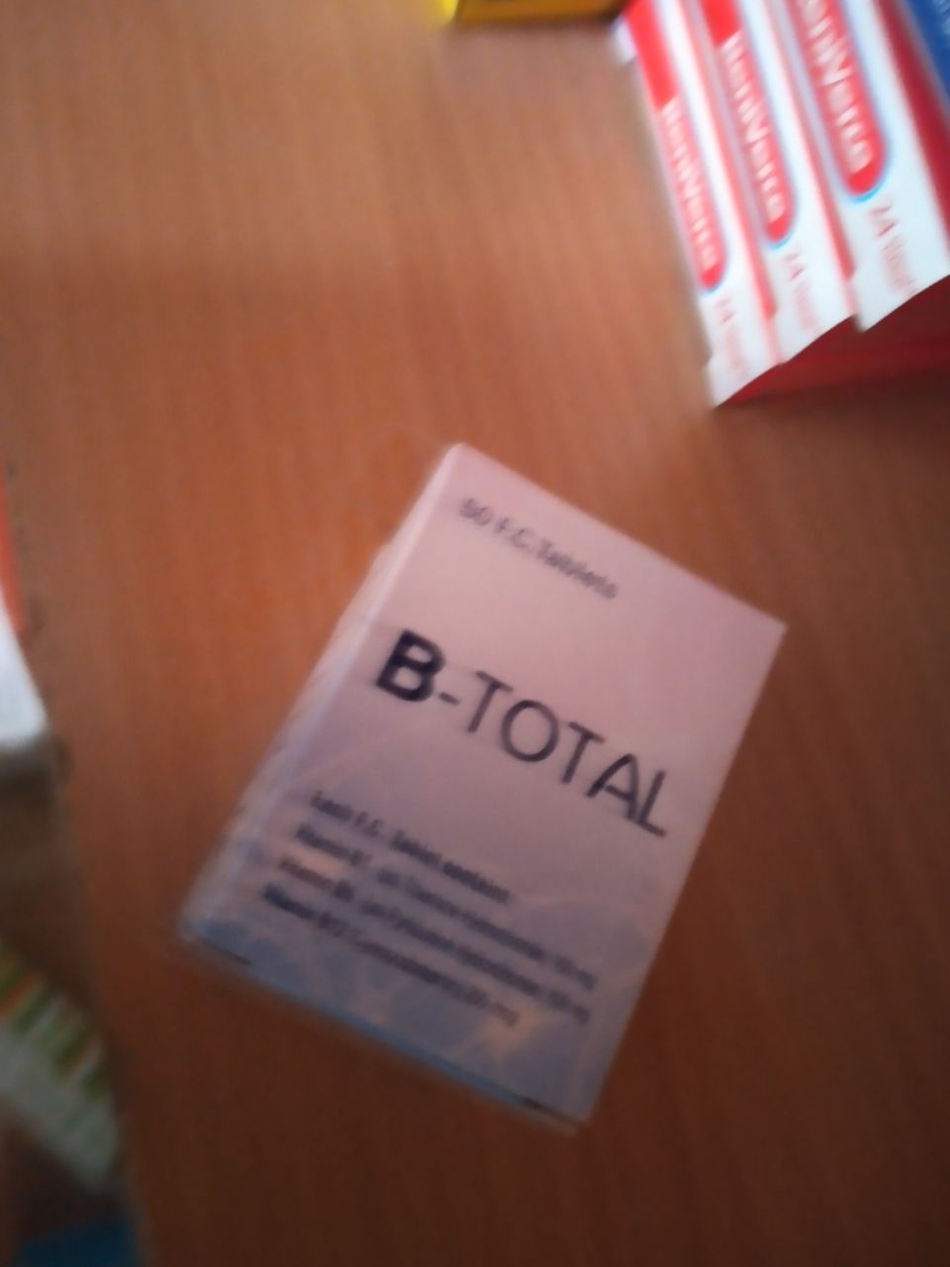Medicine: (195, 432, 785, 1155)
